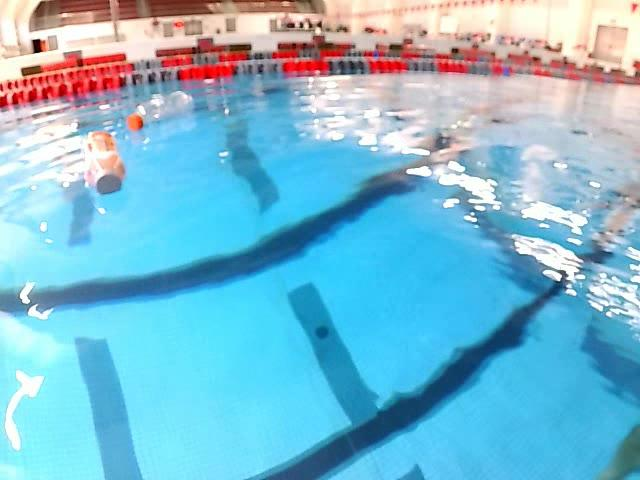Bottle: (76, 125, 132, 198), (122, 88, 199, 134)
